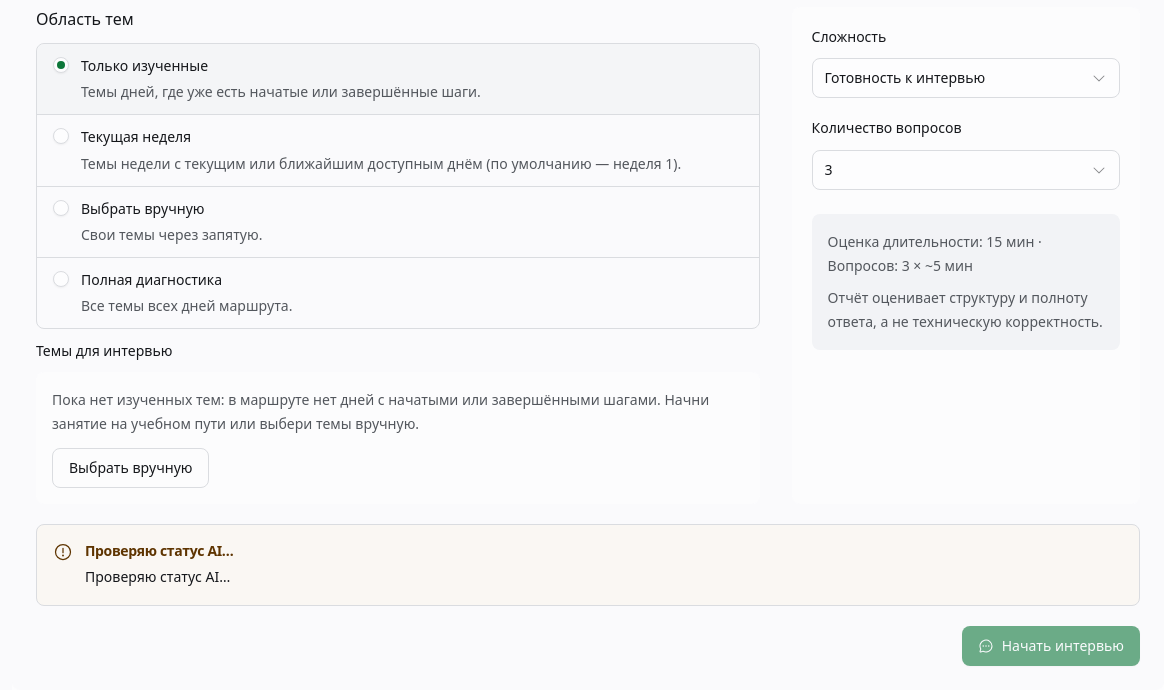
Test case: versioned interview workflow › explains an empty studied scope and offers manual topics
(page scrolled)
Expected: the text "Пока нет изученных тем" is shown, [52,390,709,434]
Step 1. Click the button "Выбрать вручную" → (131, 468), box [52,448,210,488]
(page scrolled)
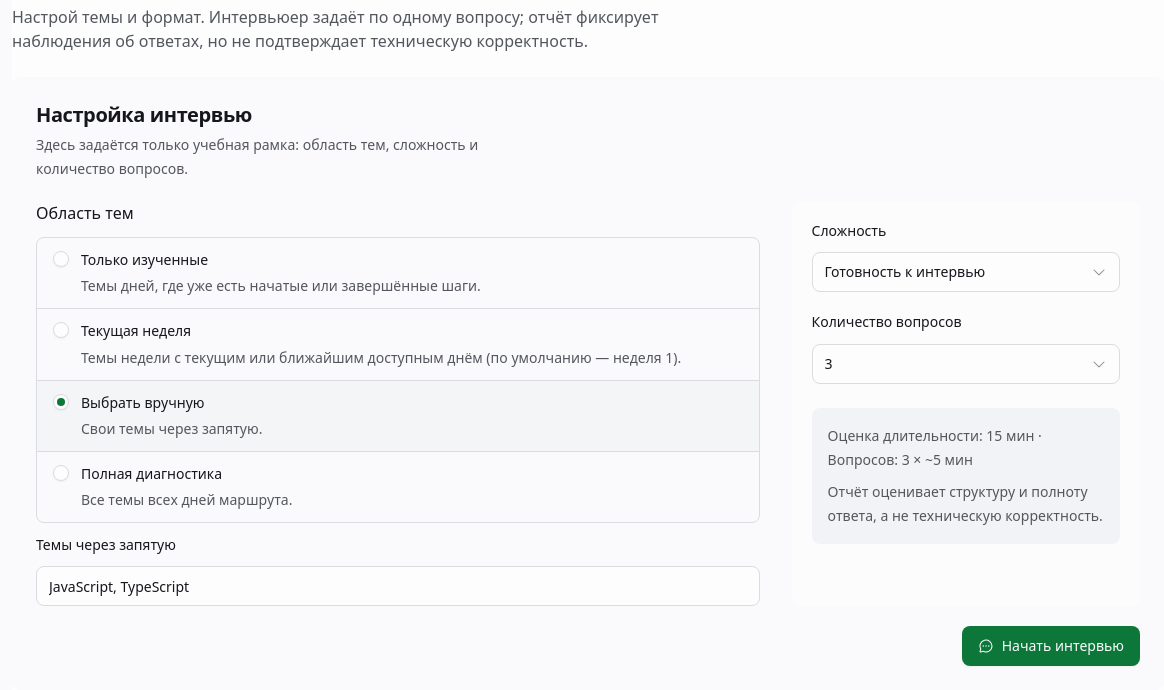
Expected: the field labelled "Темы через запятую" is shown, [36,566,760,606]
